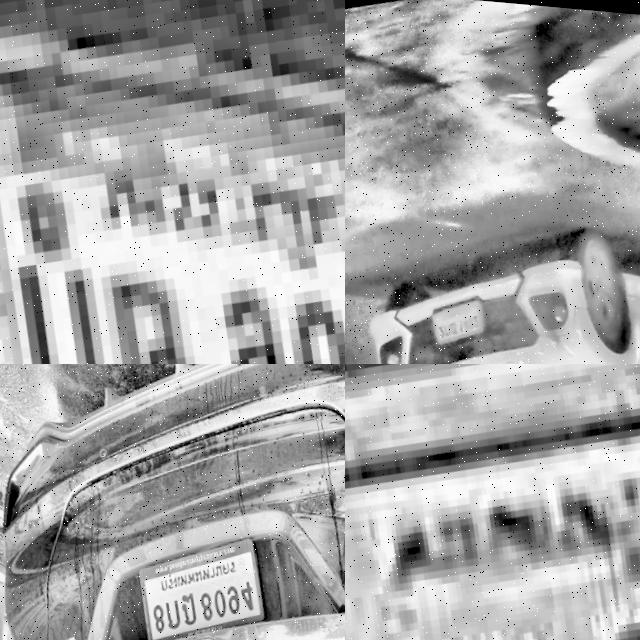license-plate: (0, 0, 345, 364), (345, 364, 640, 640), (133, 520, 282, 640), (433, 291, 496, 339)
